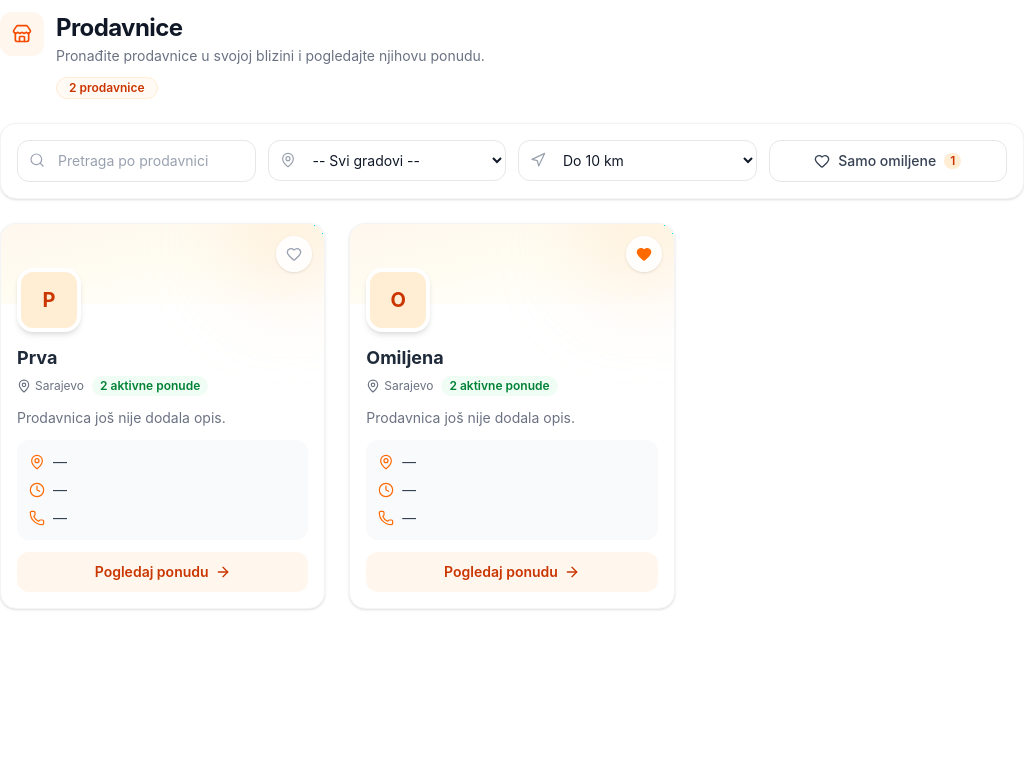
Test case: StoresPage › asks the server for favorite stores only while the toggle is on
Expected: the heading "Prva" is shown, 17,347 -> 57,368
Step 1. Click the button "Samo omiljene 1" → (888, 161), box 768,140 -> 1007,182
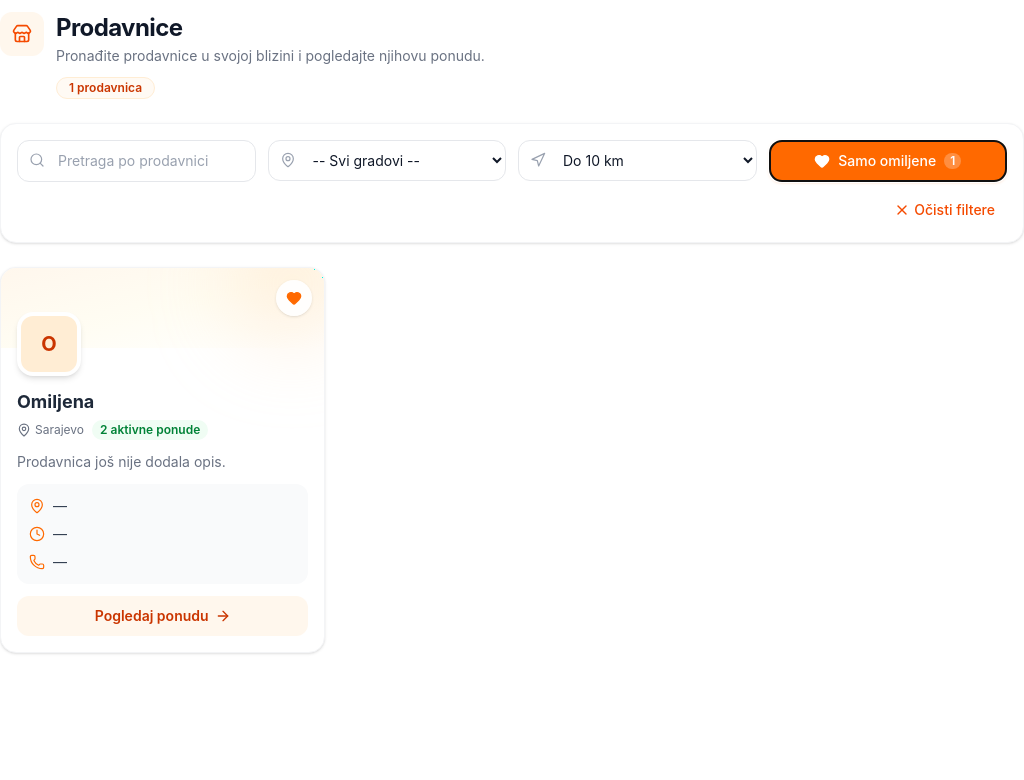
Expected: the heading "Omiljena" is shown, 17,391 -> 94,412
Expected: the heading "Prva" is gone
